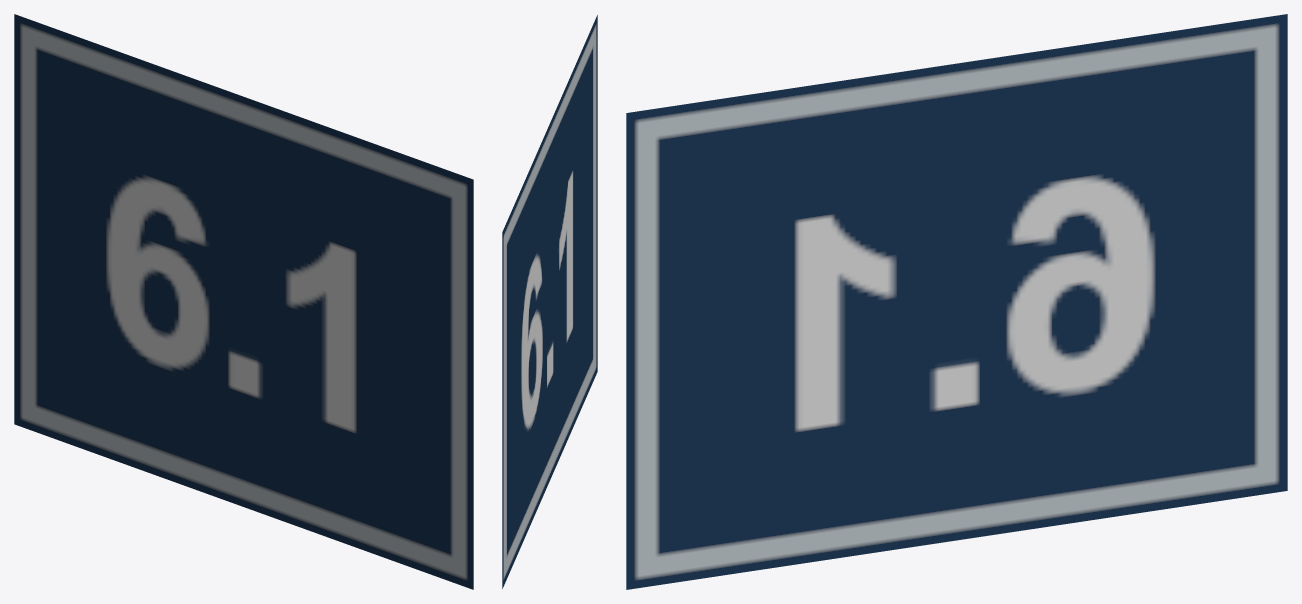
Rendered from cell--135_675.glb.
3 views of the same model, side by side, from view 1: azimuth 30°, elevation 25°; view 2: azimuth 150°, elevation 25°; view 3: azimuth 270°, elevation 25° (orthographic). The views are drawn at different scales.
Parts seen in each view (by area): view 1: cell--135_675; view 2: cell--135_675; view 3: cell--135_675.
Boxes of the visible parts, x1,y1,x2,y2 form: cell--135_675: [14, 14, 473, 589]; cell--135_675: [502, 15, 597, 588]; cell--135_675: [626, 14, 1287, 589].
Size of the model in its own units: 0.0401 by 0.09 by 0.1131.
Materials: 1 (1 with a texture image).
